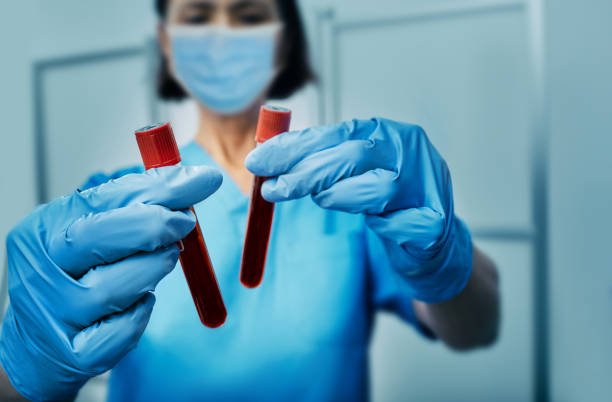blood: (169, 207, 228, 327), (238, 173, 278, 289)
